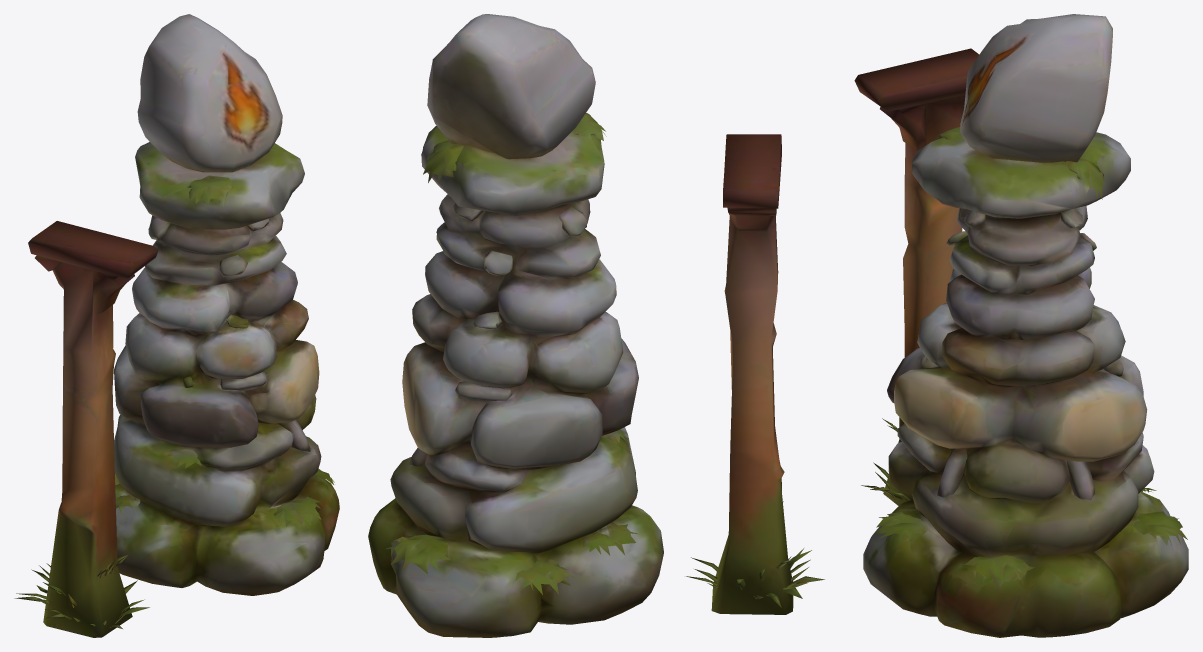
Rendered from wyn_shrine_cairn.glb.
3 views of the same model, side by side, from view 1: azimuth 30°, elevation 25°; view 2: azimuth 150°, elevation 25°; view 3: azimuth 270°, elevation 25° (orthographic). The views are drawn at different scales.
Parts seen in each view (by area): view 1: tripo_node_883f174a-e154-4426-aa28-566fa2e008c2; view 2: tripo_node_883f174a-e154-4426-aa28-566fa2e008c2; view 3: tripo_node_883f174a-e154-4426-aa28-566fa2e008c2.
Part boxes in pixels (<box>): tripo_node_883f174a-e154-4426-aa28-566fa2e008c2: <box>14,14,339,637</box>; tripo_node_883f174a-e154-4426-aa28-566fa2e008c2: <box>368,14,824,637</box>; tripo_node_883f174a-e154-4426-aa28-566fa2e008c2: <box>854,14,1188,637</box>.
Size of the model in its own units: 0.6827 by 1 by 0.5269.
Materials: 1 (1 with a texture image).
